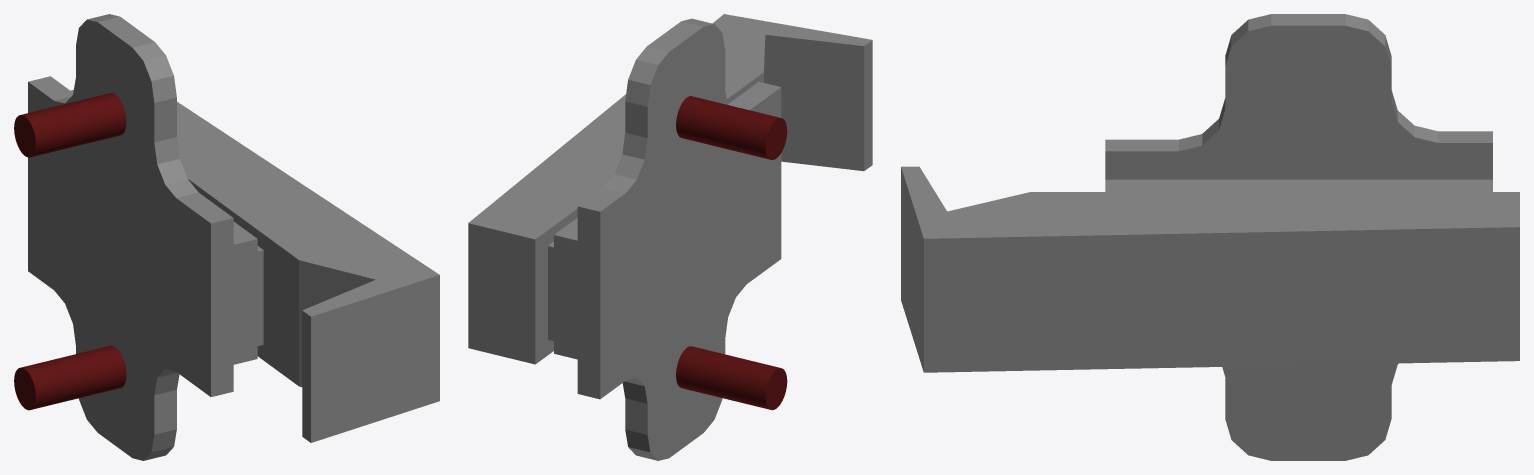
Rendered from pelya_korpus_samorez_1784573408885.glb.
3 views of the same model, side by side, from view 1: azimuth 30°, elevation 25°; view 2: azimuth 150°, elevation 25°; view 3: azimuth 270°, elevation 25° (orthographic). The views are drawn at different scales.
Parts seen in each view (by area): view 1: Geom3D (×2); view 2: Geom3D (×2); view 3: Geom3D.
Boxes of the visible parts, box(x1,y1,x2,y2) form: Geom3D (×2): box(14, 14, 439, 460); Geom3D (×2): box(468, 14, 872, 460); Geom3D: box(901, 14, 1519, 460).
Size of the model in its own units: 31 by 52 by 67.
